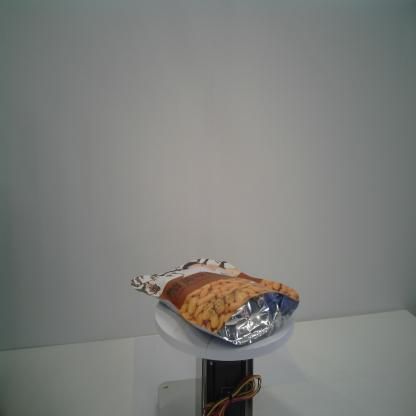Dried Fruit: (130, 258, 300, 346)
